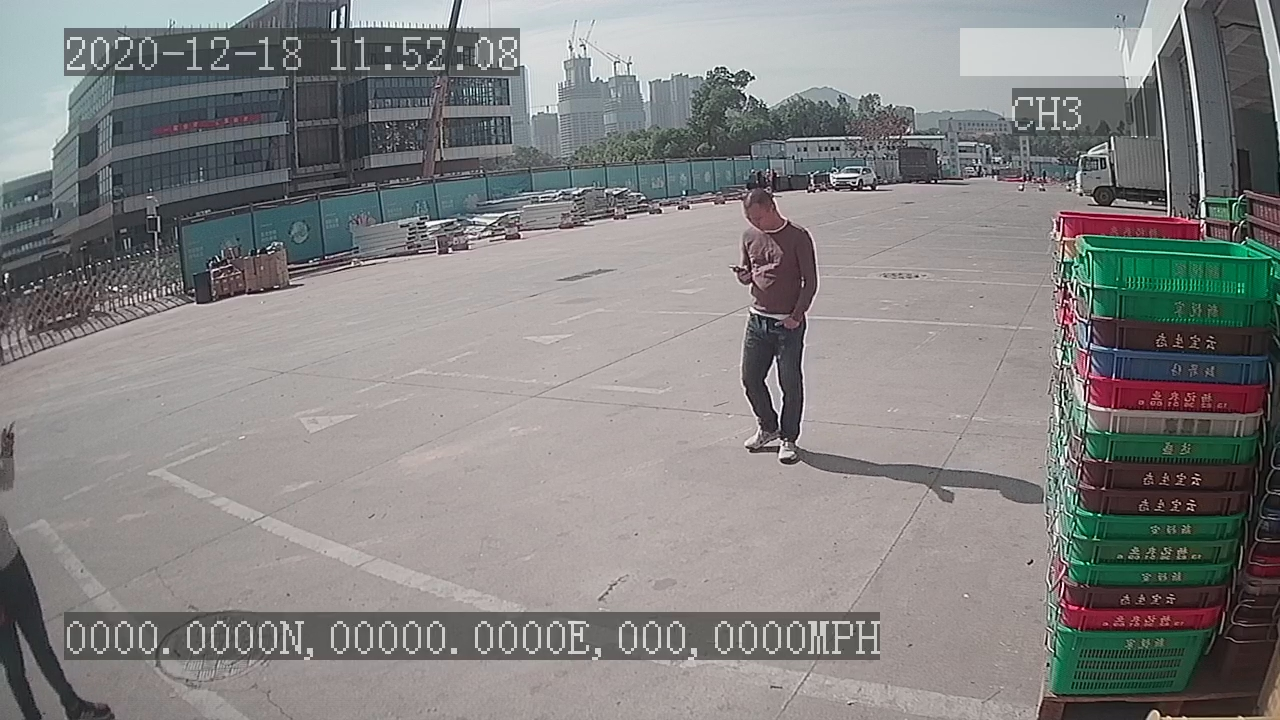person: (722, 183, 827, 467)
